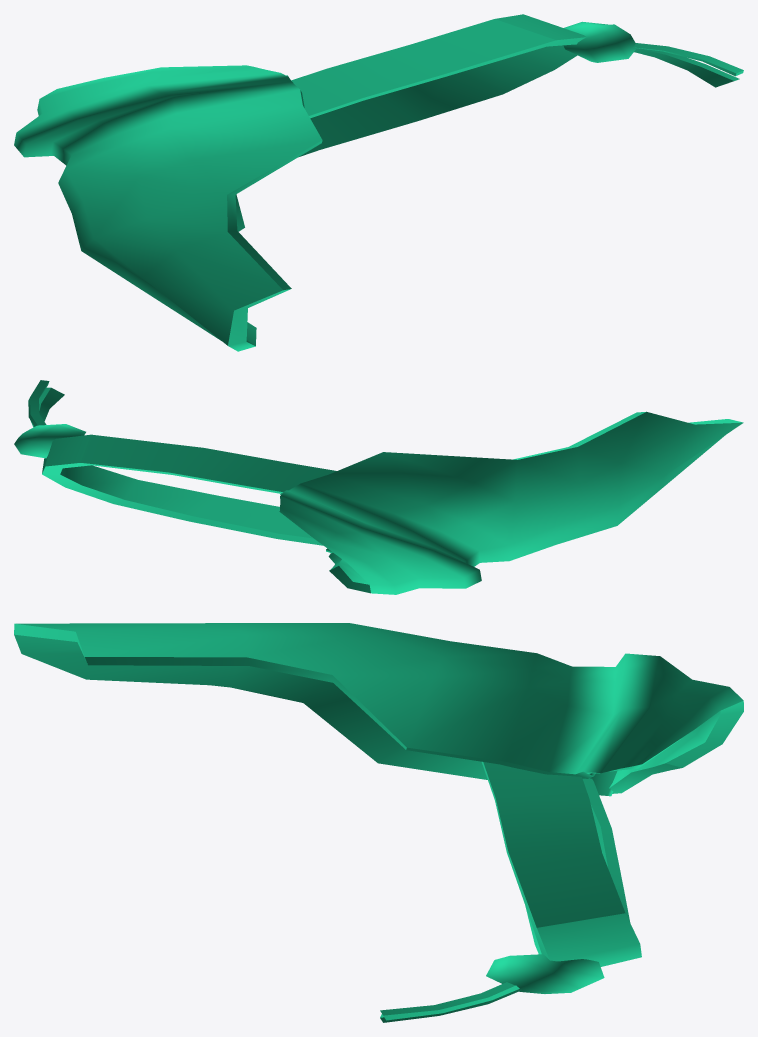
File: W_Apron_Side.FBX
3 renders of one model, top to bottom at view 1: azimuth 30°, elevation 25°; view 2: azimuth 150°, elevation 25°; view 3: azimuth 270°, elevation 25°, orthographic. The views are drawn at different scales.
Visible parts, largest first — view 1: Object005; view 2: Object005; view 3: Object005.
Part boxes in pixels (x1,y1,x2,y2): Object005: (14,14,743,351); Object005: (14,380,743,594); Object005: (14,623,743,1022).
Size of the model in its own units: 30.21 by 2.56 by 23.81.
